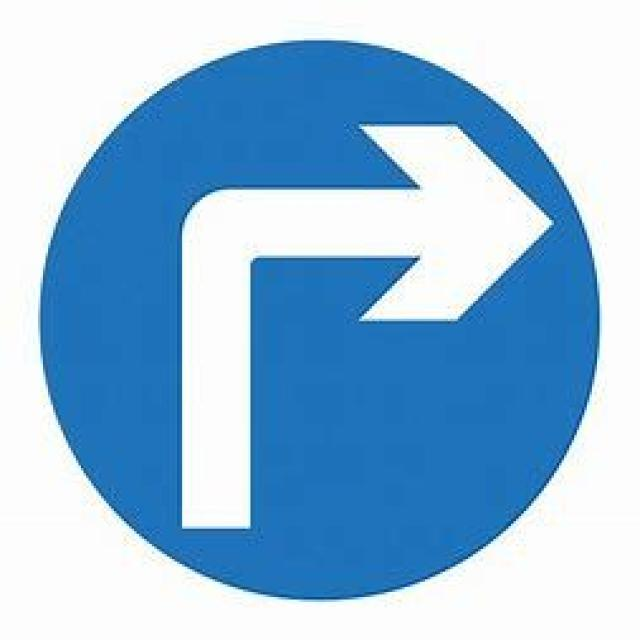COMPULSARY_TURN_RIGHT_AHEAD: (38, 38, 604, 598)
